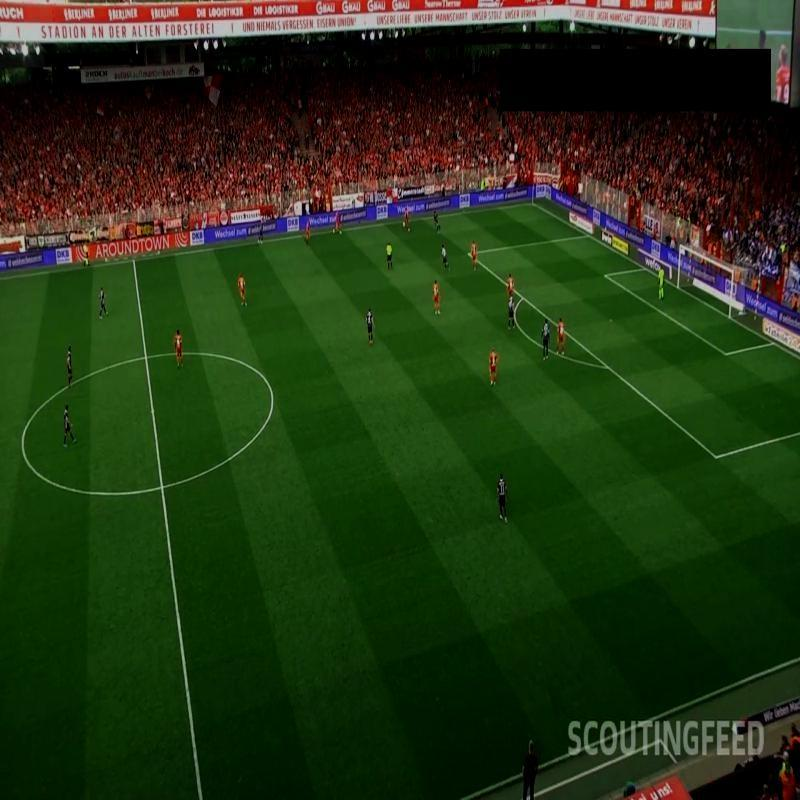1: (526, 197, 540, 211)
10: (515, 290, 530, 304)
11: (602, 360, 616, 374)
12: (710, 450, 724, 465)
13: (127, 253, 142, 266)
14: (139, 350, 153, 364)
15: (155, 479, 169, 493)
2: (582, 228, 596, 242)
3: (638, 262, 652, 276)
4: (767, 337, 781, 351)
7: (598, 268, 612, 282)
8: (718, 347, 732, 361)
9: (462, 247, 476, 261)
c: (260, 378, 280, 396), (18, 439, 32, 453)
